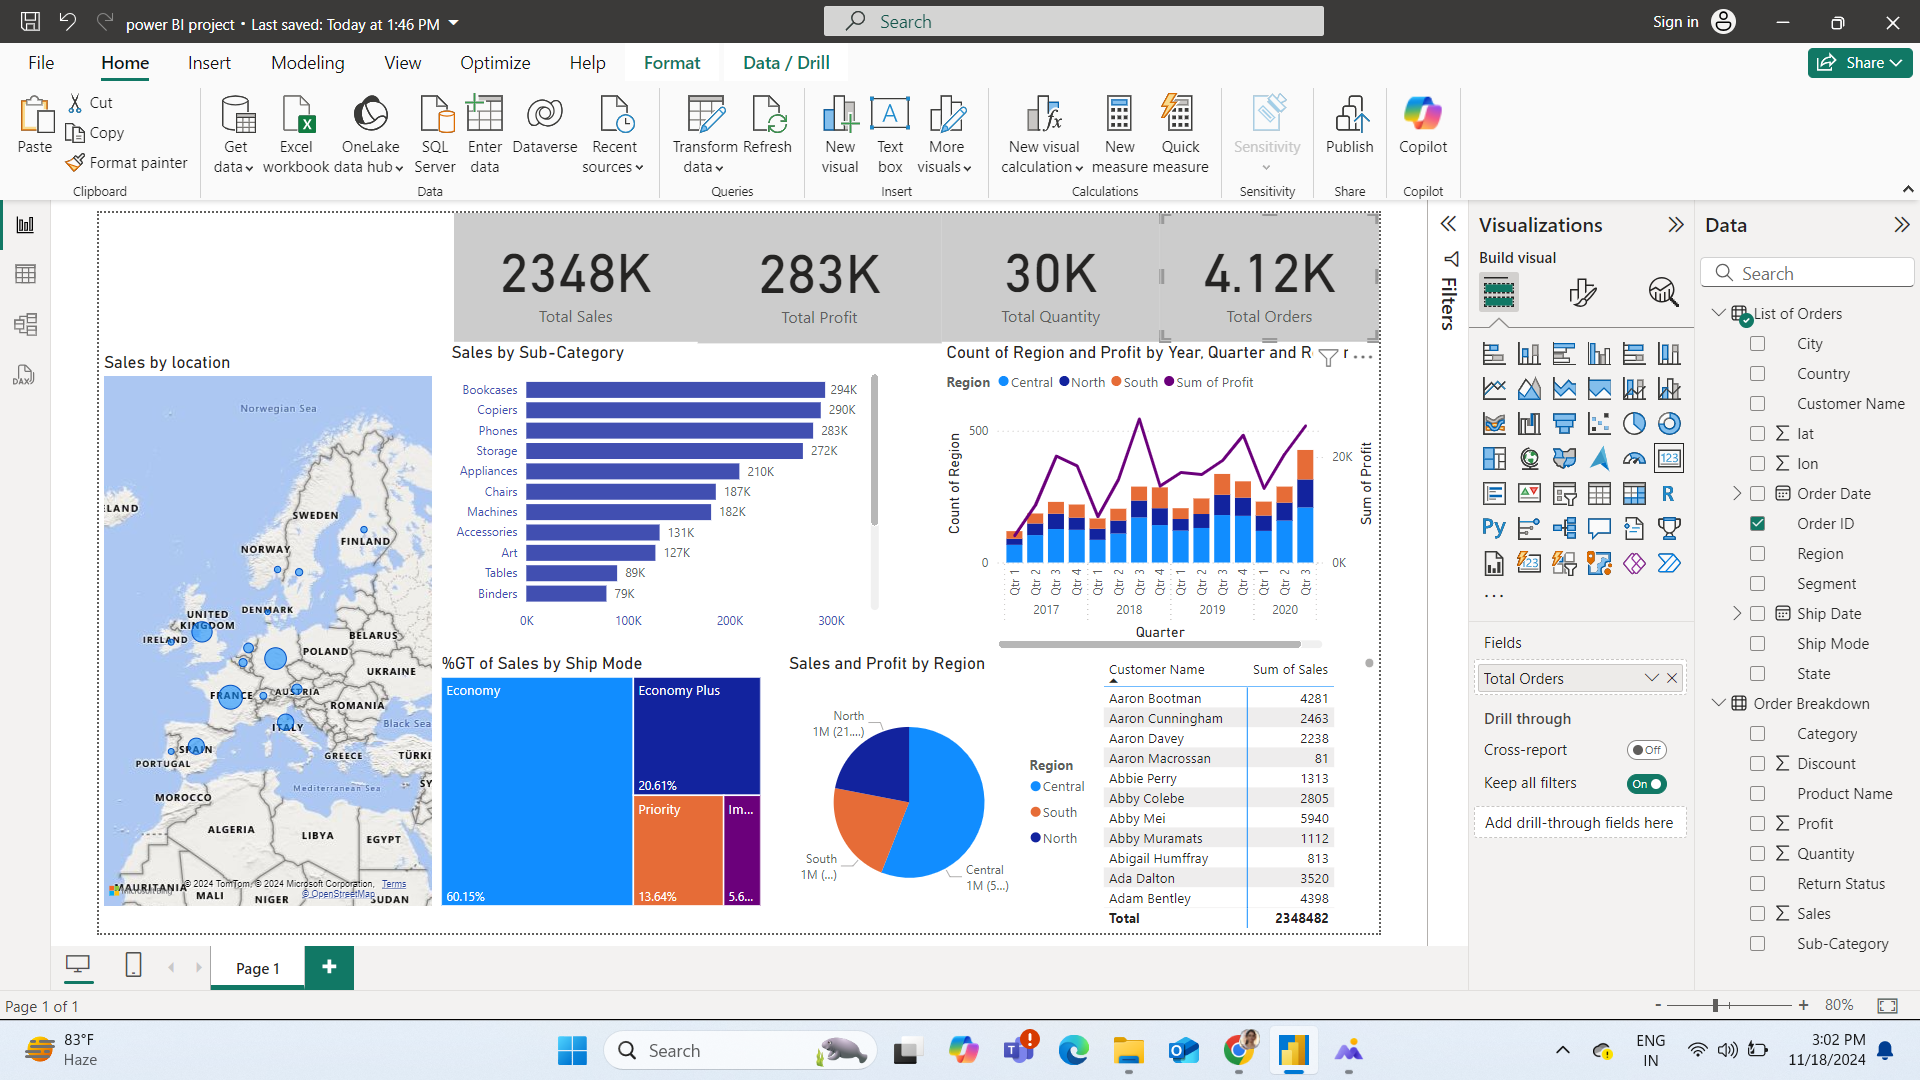

What the dashboard file says about the page in this screenshot:
{"tool":"powerbi","page":{"name":"Page 1","canvas":[1280,720],"ordinal":0},"visuals":[{"type":"pivotTable","fields":{"Rows":["List of Orders.Customer Name"],"Values":["Sum(Order Breakdown.Sales)"]},"box":[1000.3,440.5,279.9,279.9],"z":0},{"type":"clusteredBarChart","title":" Sales by Sub-Category","fields":{"Category":["Order Breakdown.Sub-Category","Order Breakdown.Profit"],"Y":["Sum(Order Breakdown.Sales)"]},"box":[347.5,128.8,437.5,297.5],"z":1000},{"type":"pieChart","title":" Sales and Profit by Region","fields":{"Category":["List of Orders.Region"],"Y":["Sum(Order Breakdown.Sales)"]},"box":[684.7,440.5,315.6,279.9],"z":2000},{"type":"treemap","title":"%GT of Sales by Ship Mode","fields":{"Values":["Sum(Order Breakdown.Sales)"],"Group":["List of Orders.Ship Mode"]},"box":[337.6,440.5,329.3,258],"z":3000},{"type":"lineStackedColumnComboChart","title":"Count of Region  and Profit by Year, Quarter and Region","fields":{"Y2":["Sum(Order Breakdown.Profit)"],"Y":["CountNonNull(List of Orders.Region)"],"Category":["List of Orders.Order Date.Variation.Date Hierarchy.Year","List of Orders.Order Date.Variation.Date Hierarchy.Quarter"],"Series":["List of Orders.Region"]},"box":[842.5,129,437.7,311.5],"z":4000},{"type":"map","title":"Sales by location","fields":{"Category":["List of Orders.Country","List of Orders.State","List of Orders.City"],"Size":["Sum(Order Breakdown.Sales)"]},"box":[0,381.2,347.5,316.2],"z":5000},{"type":"card","fields":{"Values":["Sum(Order Breakdown.Sales)"]},"box":[358.8,0,240,128.8],"z":5001},{"type":"card","fields":{"Values":["Sum(Order Breakdown.Profit)"]},"box":[598.8,0,243.8,130],"z":5003},{"type":"card","fields":{"Values":["Sum(Order Breakdown.Quantity)"]},"box":[842.5,0,218.8,128.8],"z":5004},{"type":"card","fields":{"Values":["CountNonNull(List of Orders.Order ID)"]},"box":[1061.2,0,218.8,128.8],"z":5005},{"type":"image","box":[0,0,105,138.8],"z":5006},{"type":"textbox","box":[100,48.8,258.8,45],"z":5007},{"type":"slicer","fields":{"Values":["List of Orders.Order Date"]},"box":[0,138.8,337.5,106.2],"z":5008},{"type":"slicer","fields":{"Values":["List of Orders.Ship Date"]},"box":[0,245,337.5,115],"z":5009}]}

Visuals, with their boxes on the page's 1280x720 design canvas (x1, y1, x2, y2). These are canvas units, not pixel positions in the 1920x1080 screenshot, which may show the page scaled, cropped or inside an application window:
pivotTable - List of Orders.Customer Name x Sum(Order Breakdown.Sales): box(1000, 440, 1280, 720)
" Sales by Sub-Category" clusteredBarChart: box(348, 129, 785, 426)
" Sales and Profit by Region" pieChart: box(685, 440, 1000, 720)
"%GT of Sales by Ship Mode" treemap: box(338, 440, 667, 698)
"Count of Region  and Profit by Year, Quarter and Region" lineStackedColumnComboChart: box(842, 129, 1280, 440)
"Sales by location" map: box(0, 381, 348, 697)
card - Sum(Order Breakdown.Sales): box(359, 0, 599, 129)
card - Sum(Order Breakdown.Profit): box(599, 0, 843, 130)
card - Sum(Order Breakdown.Quantity): box(842, 0, 1061, 129)
card - CountNonNull(List of Orders.Order ID): box(1061, 0, 1280, 129)
image: box(0, 0, 105, 139)
textbox: box(100, 49, 359, 94)
slicer - List of Orders.Order Date: box(0, 139, 338, 245)
slicer - List of Orders.Ship Date: box(0, 245, 338, 360)
